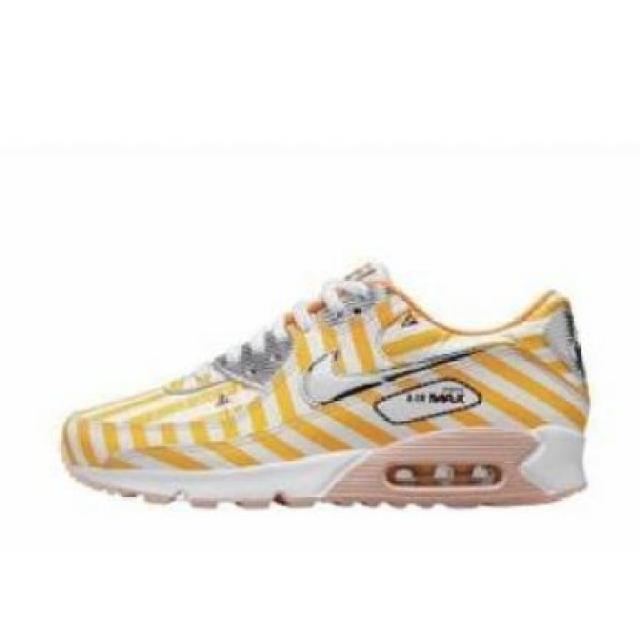Nike: (303, 348, 496, 403)
